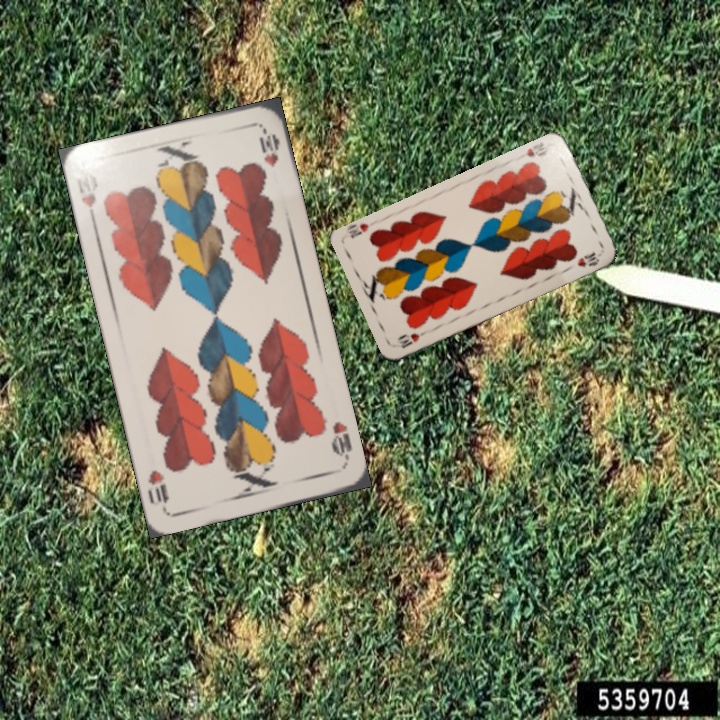H10: (327, 417, 355, 466), (395, 326, 431, 351), (77, 189, 99, 227), (523, 138, 551, 160)
